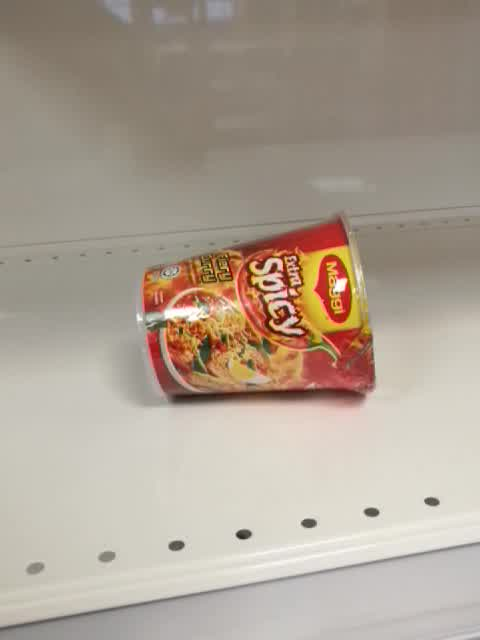maggi: (132, 209, 376, 405)
